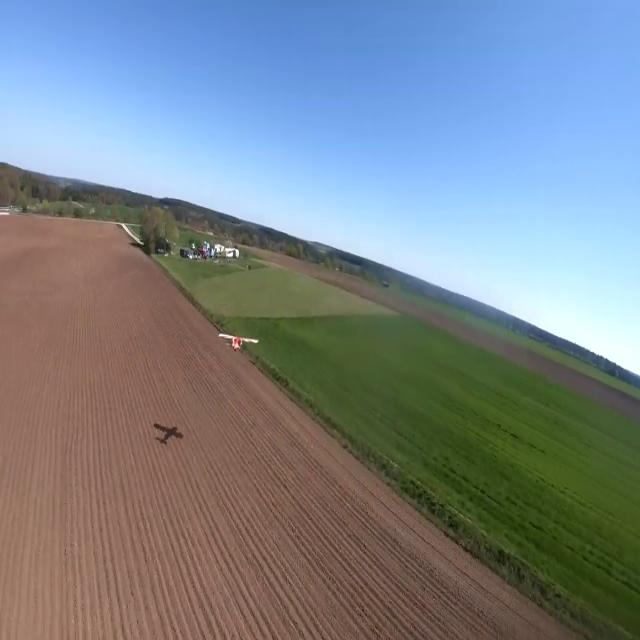iha: (218, 331, 260, 353)
